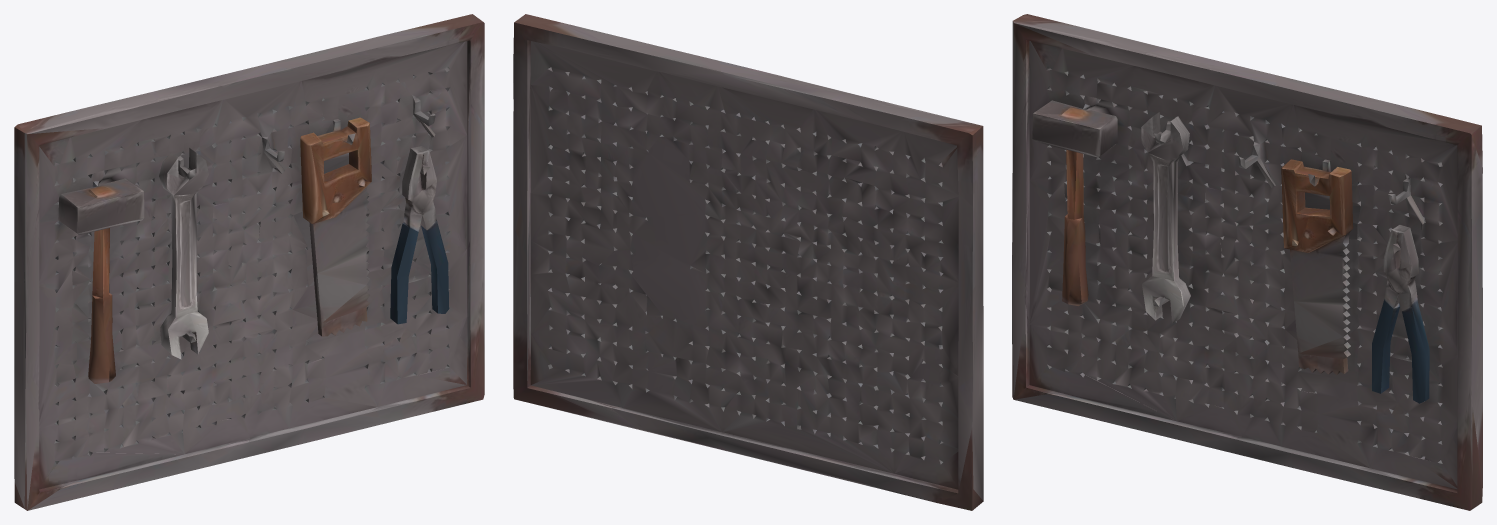
File: decor_tool_board_idle.glb
3 renders of one model, left to right at view 1: azimuth 30°, elevation 25°; view 2: azimuth 150°, elevation 25°; view 3: azimuth 330°, elevation 25°, orthographic.
Visible parts, largest first — view 1: tripo_node_c75fec84-c8d6-480c-8e70-60b4b68e9d5e; view 2: tripo_node_c75fec84-c8d6-480c-8e70-60b4b68e9d5e; view 3: tripo_node_c75fec84-c8d6-480c-8e70-60b4b68e9d5e.
Boxes of the visible parts, bbox=[...] form: tripo_node_c75fec84-c8d6-480c-8e70-60b4b68e9d5e: bbox=[14, 14, 484, 510]; tripo_node_c75fec84-c8d6-480c-8e70-60b4b68e9d5e: bbox=[513, 14, 983, 510]; tripo_node_c75fec84-c8d6-480c-8e70-60b4b68e9d5e: bbox=[1012, 14, 1482, 510].
Bounding box in the file's own units: 1.02 × 0.7992 × 0.105.
Materials: 1 (1 with a texture image).
